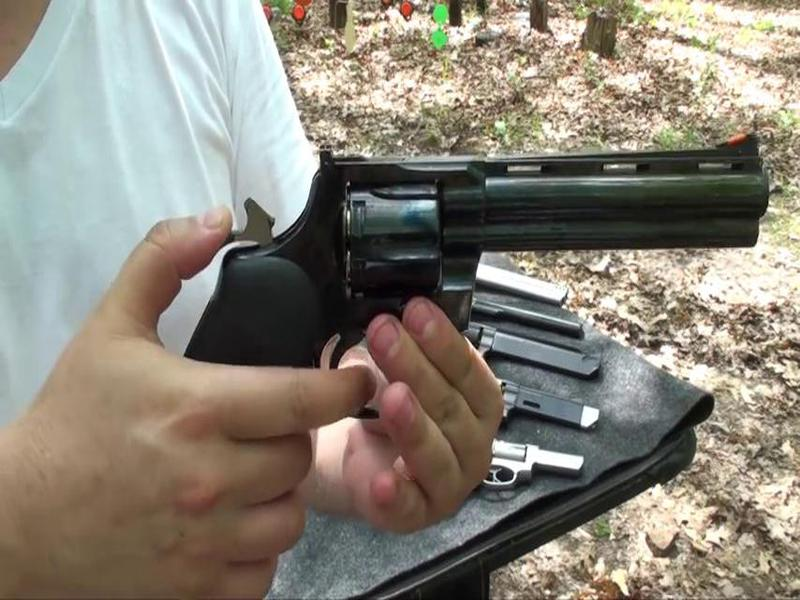Revolver: (167, 138, 788, 440)
